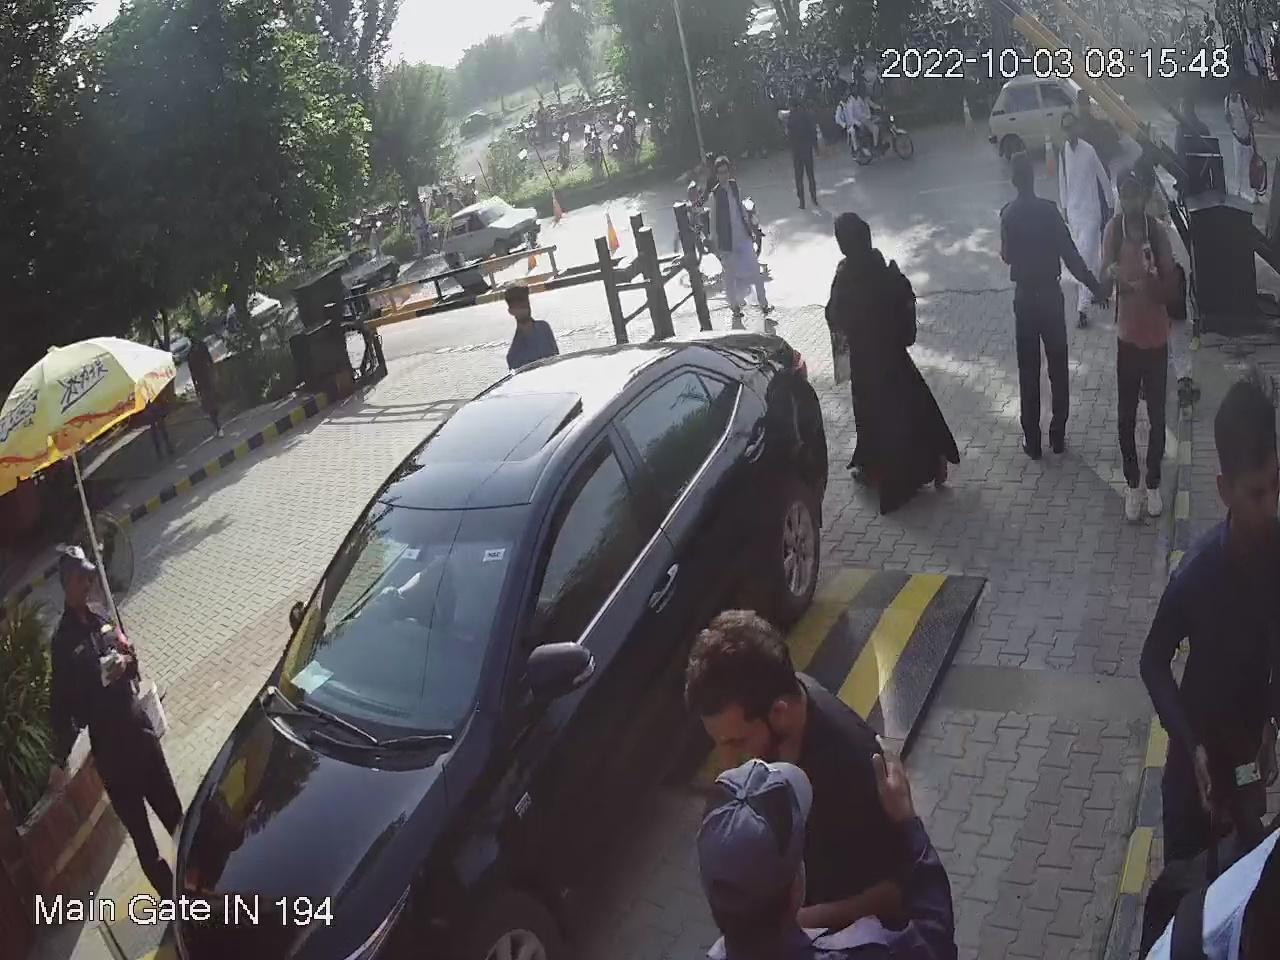windshield: (261, 487, 540, 745)
